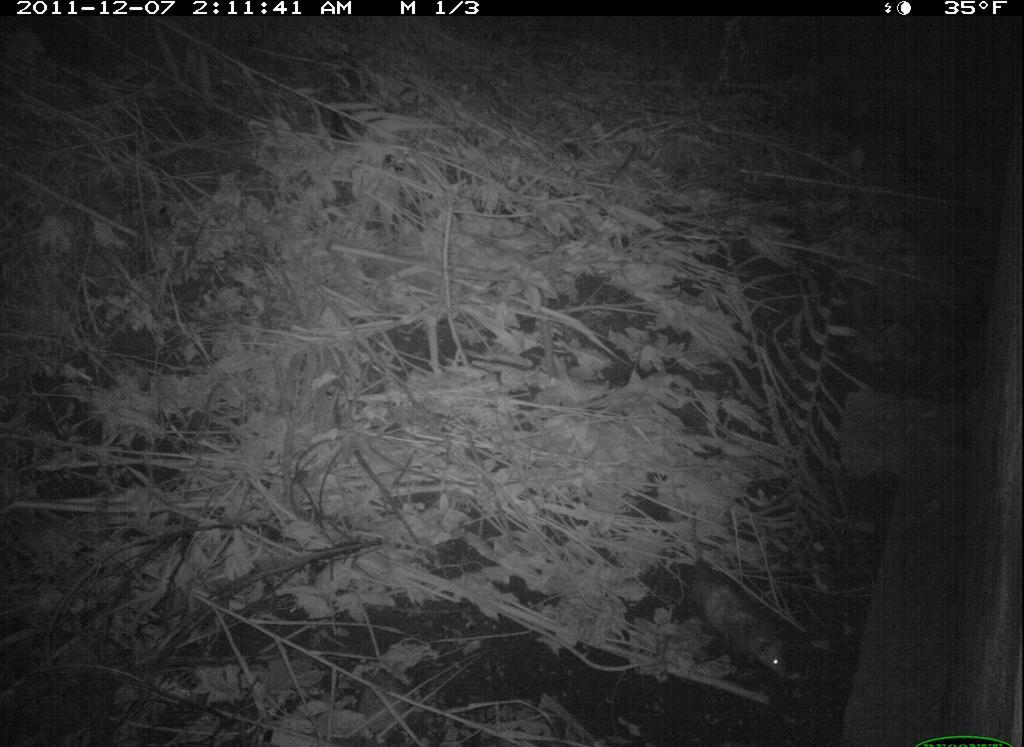opossum: (666, 539, 799, 690)
